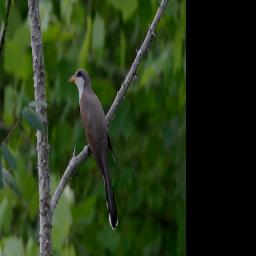Cuckoo: (67, 66, 120, 232)
